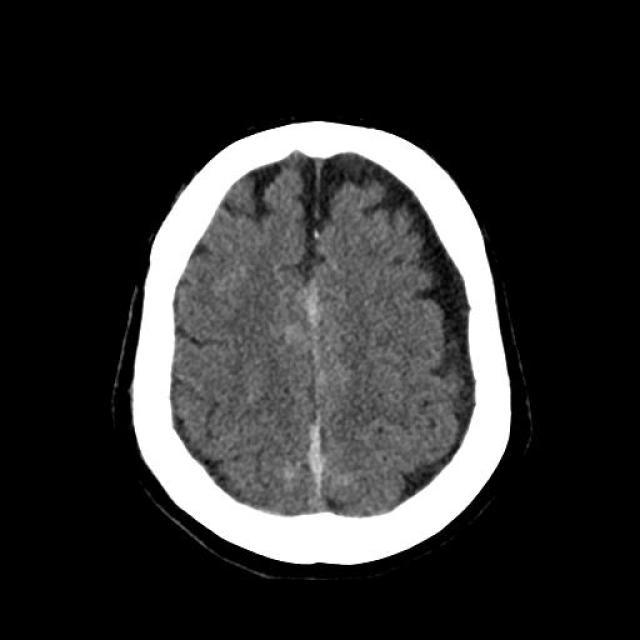Subdural: (302, 400, 336, 522)
